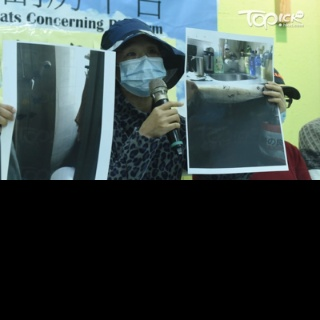with_mask: (116, 44, 167, 96)
